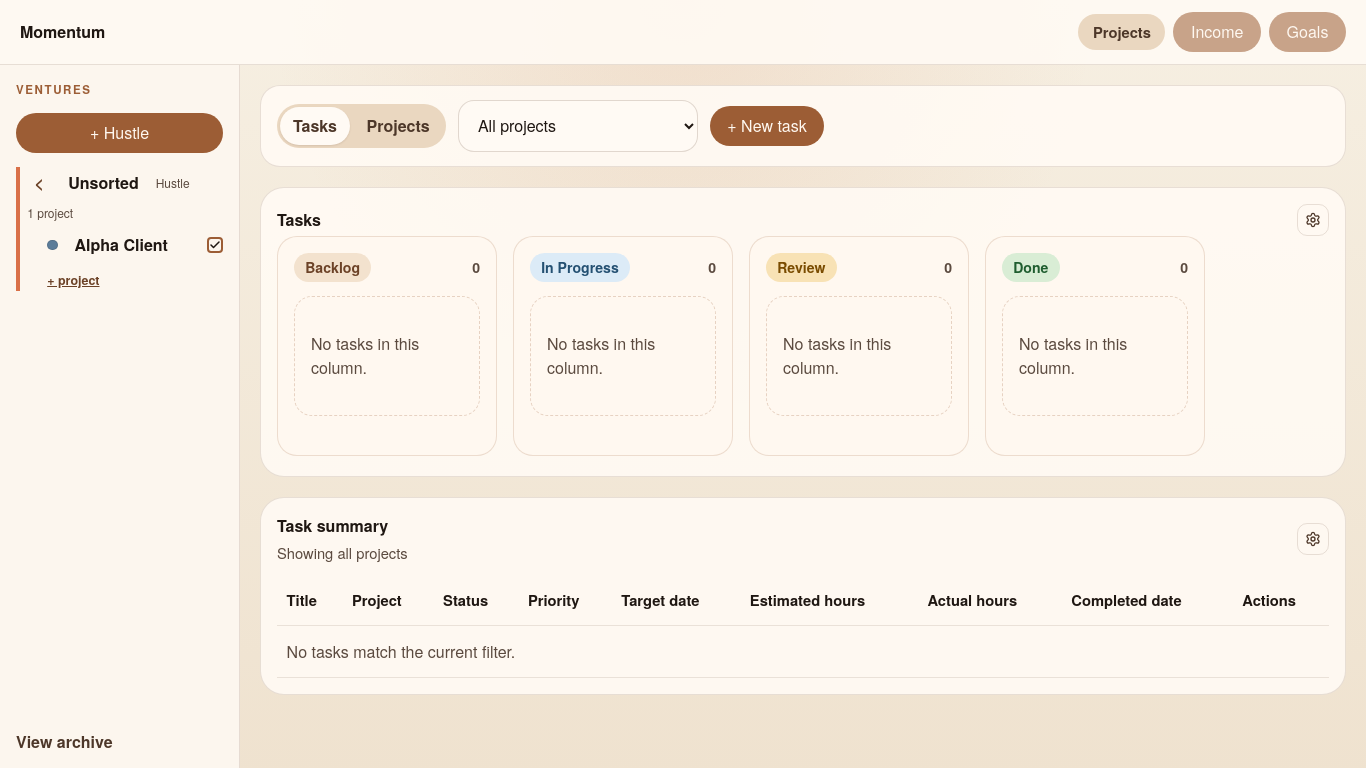
Ticket 1b-4 Projects page polish › archive dialog (projects tab) › opens a dialog from View archive and fetches archived projects
The image size is (1366, 768).
Step 1. Click the button "View archive" → (120, 742), box [16, 725, 223, 760]
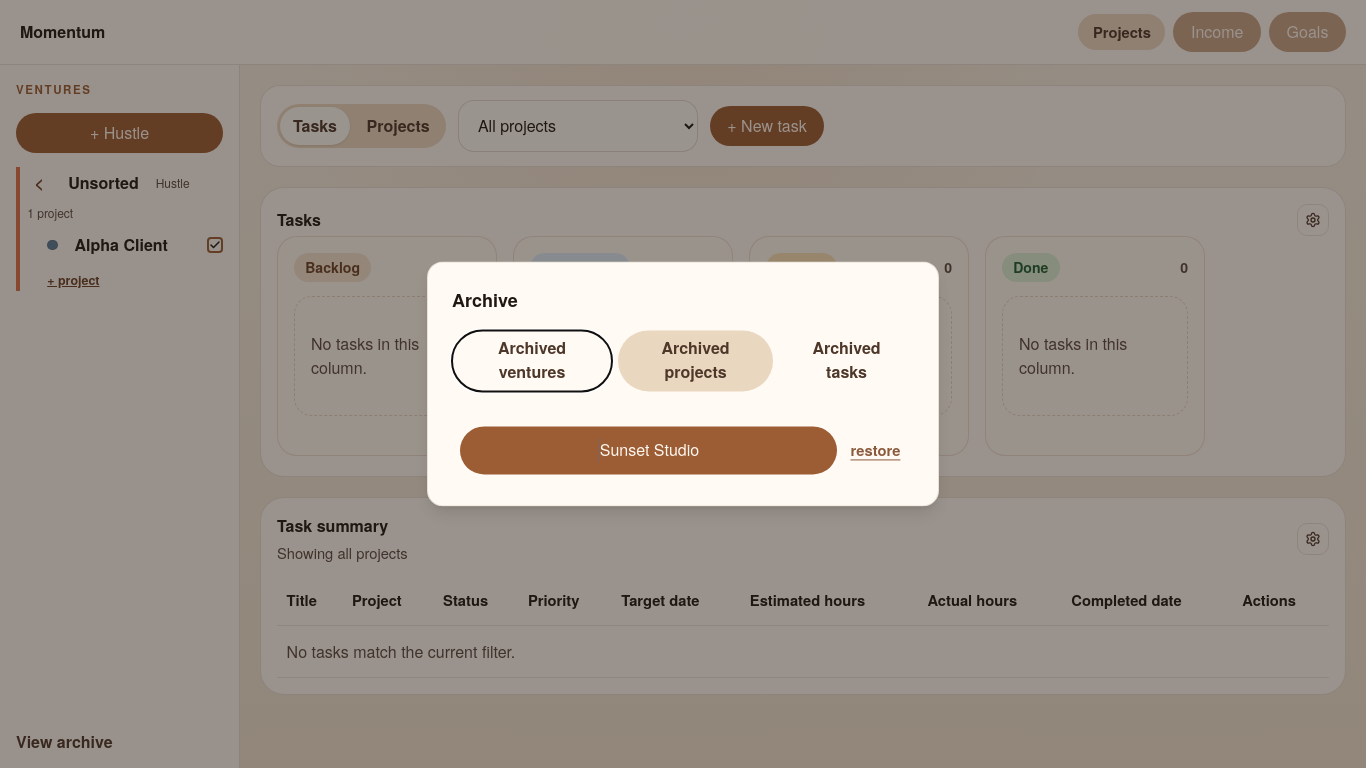
Expected: the text "Sunset Studio" is shown, [600, 438, 699, 461]
Expected: the element with test id "archive-project-dot-project-archived" is shown, [598, 437, 600, 462]
